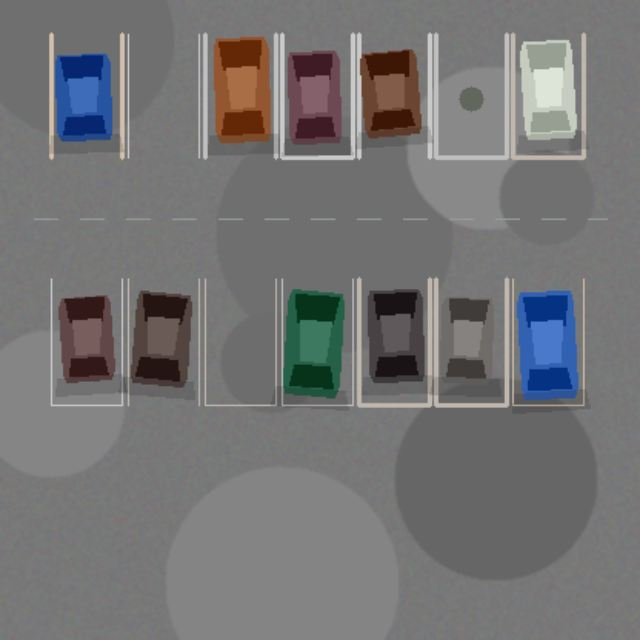space-empty: (205, 278, 275, 405), (435, 34, 506, 157), (128, 34, 198, 157)
space-occupied: (51, 278, 122, 405), (358, 278, 429, 405), (435, 278, 506, 405), (512, 278, 583, 405), (128, 278, 198, 405), (282, 278, 352, 405), (51, 34, 122, 157), (358, 34, 429, 157), (512, 34, 583, 157), (205, 34, 275, 157), (282, 34, 352, 157)
